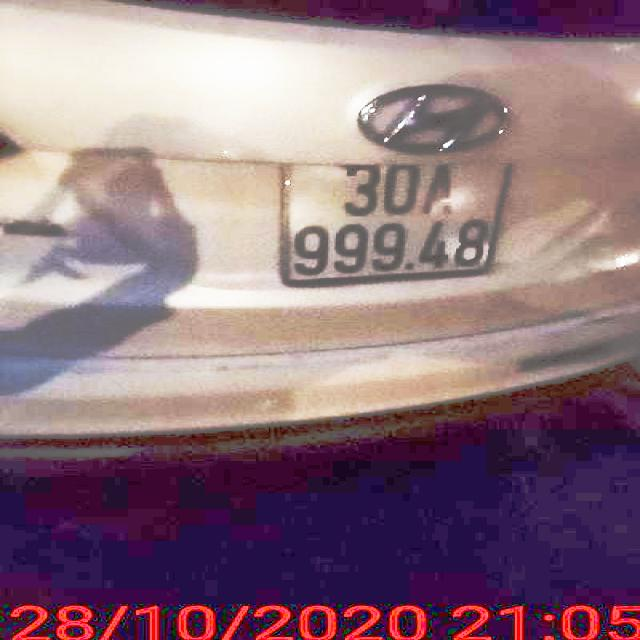license_plate: (283, 163, 512, 283)
